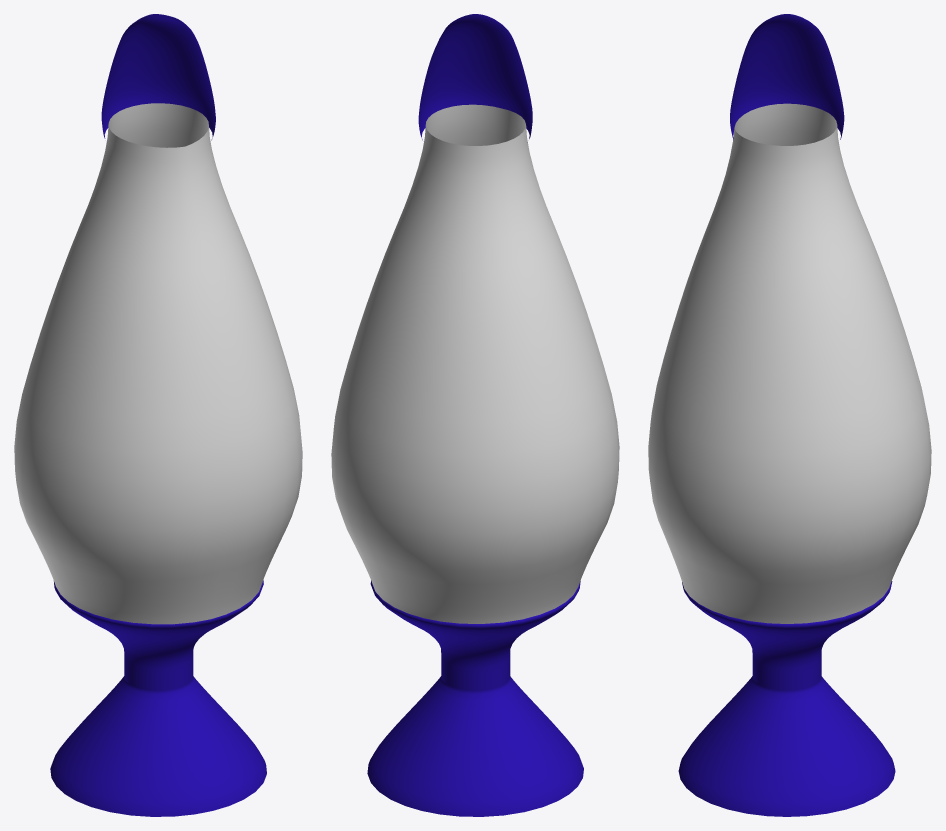
The picture shows the model from 3 angles, left to right: view 1: azimuth 30°, elevation 25°; view 2: azimuth 150°, elevation 25°; view 3: azimuth 270°, elevation 25°; orthographic projection.
Parts seen in each view (by area): view 1: SurfCircle.005, SurfCircle.007, SurfCircle.006; view 2: SurfCircle.005, SurfCircle.007, SurfCircle.006; view 3: SurfCircle.005, SurfCircle.007, SurfCircle.006.
Part boxes in pixels (x1=…): SurfCircle.005: x1=14, y1=103, x2=302, y2=624; SurfCircle.007: x1=50, y1=580, x2=266, y2=816; SurfCircle.006: x1=101, y1=14, x2=215, y2=140; SurfCircle.005: x1=331, y1=104, x2=619, y2=623; SurfCircle.007: x1=367, y1=580, x2=583, y2=816; SurfCircle.006: x1=418, y1=14, x2=532, y2=140; SurfCircle.005: x1=648, y1=103, x2=931, y2=623; SurfCircle.007: x1=678, y1=581, x2=895, y2=816; SurfCircle.006: x1=730, y1=14, x2=844, y2=139.
Bounding box in the file's own units: 1.48 × 4.26 × 1.45.
